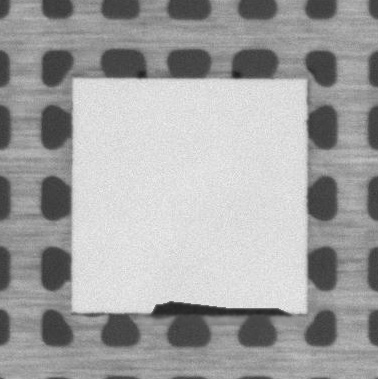DIE_BROKEN: (146, 297, 290, 318)
